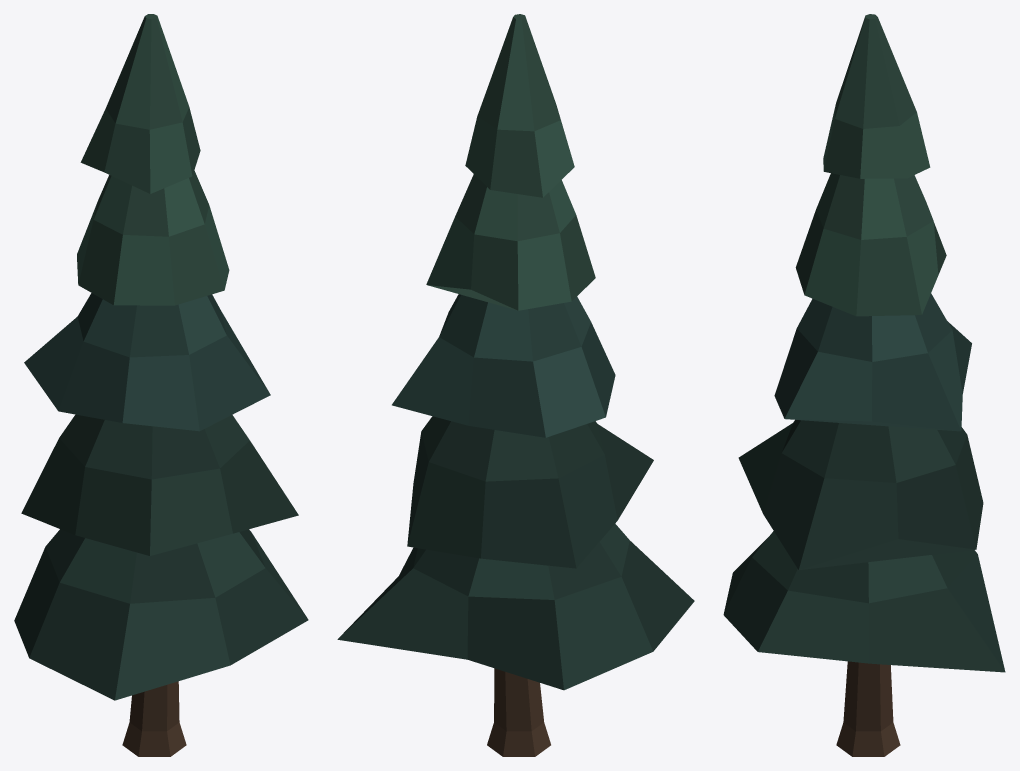
The model's file is arvore_2.glb.
The picture shows the model from 3 angles, left to right: view 1: azimuth 30°, elevation 25°; view 2: azimuth 150°, elevation 25°; view 3: azimuth 270°, elevation 25°; orthographic projection.
Parts seen in each view (by area): view 1: arvore_2.001; view 2: arvore_2.001; view 3: arvore_2.001.
Boxes of the visible parts, box(x1,y1,x2,y2) form: arvore_2.001: box(14, 14, 308, 756); arvore_2.001: box(337, 14, 694, 756); arvore_2.001: box(723, 14, 1005, 756).
Size of the model in its own units: 1.93 by 5.4 by 1.9.
